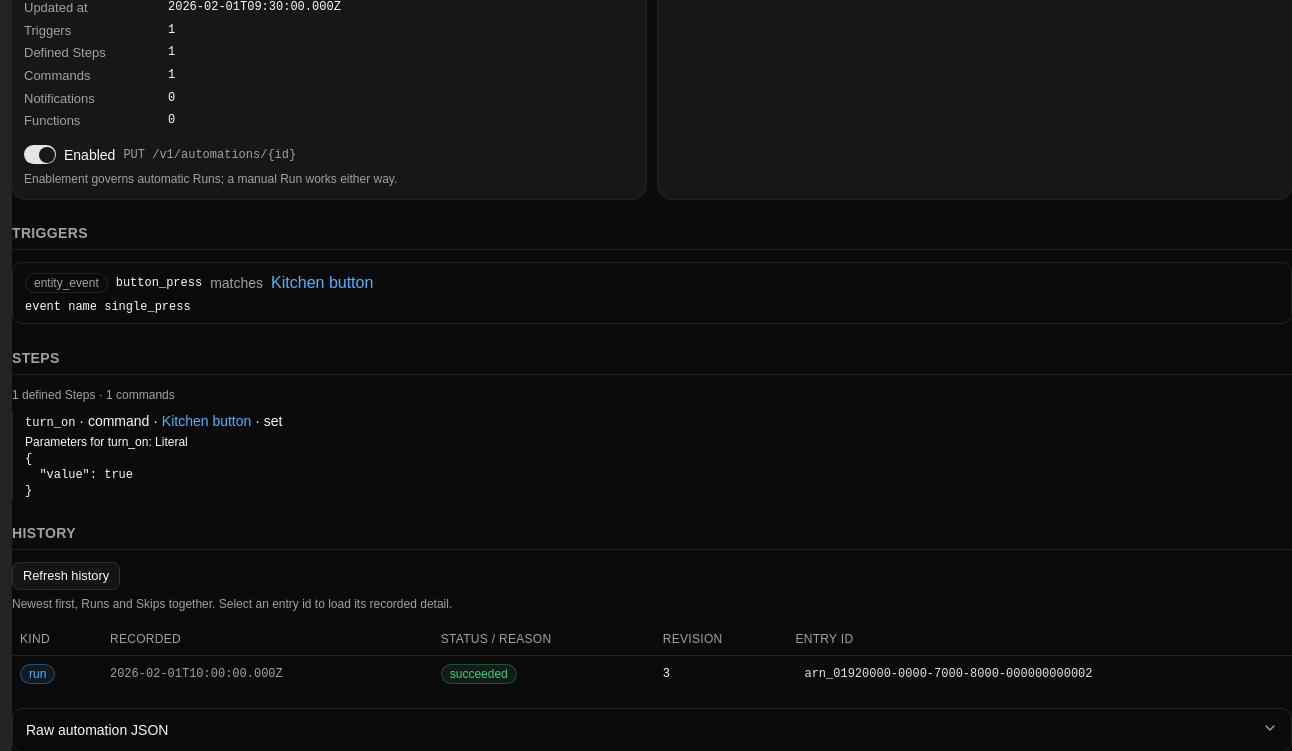
Test case: Automation Function Steps › renders an empty unified history without inventing reservations or unselected outcomes
(page scrolled)
What coordinates should you click on to do the following:
click the button "arn_01920000-0000-7000-8000-000000000002"
I would click on:
 (948, 674)
Its box is 795,662 -> 1101,686.
(page scrolled)
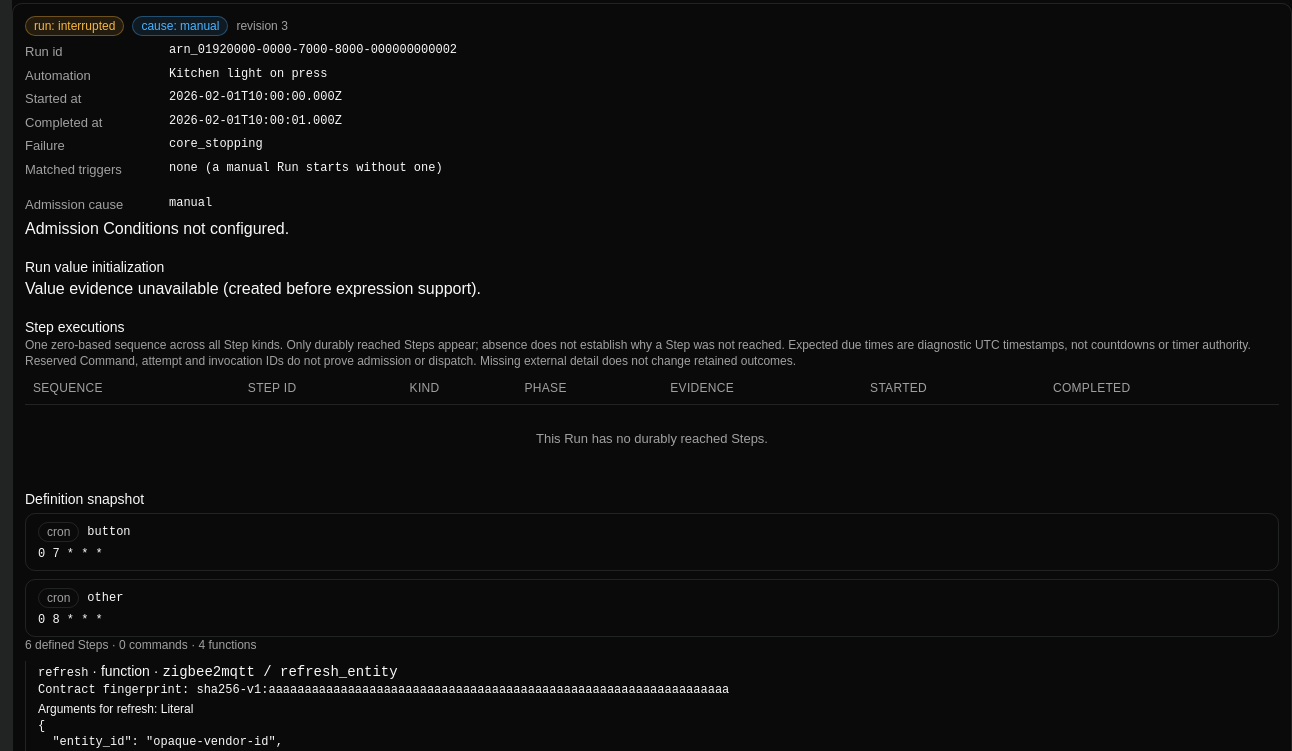
Expected: the text "This Run has no durably reached Steps." is shown, 25,405 -> 1279,473
Expected: the text "absence does not establish why a Step was not reached" is shown, 25,338 -> 1251,368
